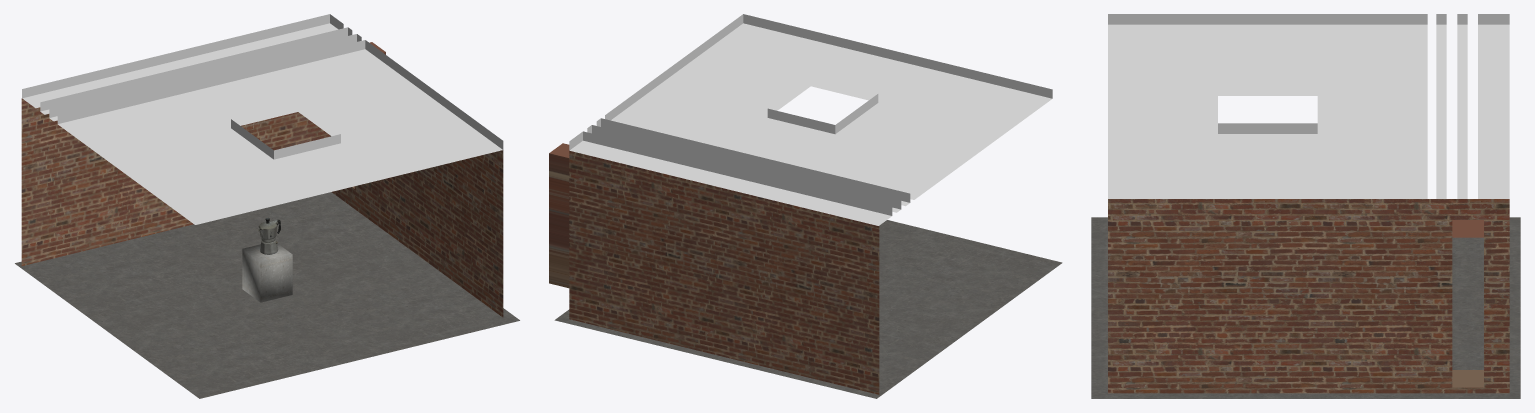
Rendered from aaaaa6.gltf.
3 renders of one model, left to right at view 1: azimuth 30°, elevation 25°; view 2: azimuth 150°, elevation 25°; view 3: azimuth 270°, elevation 25°, orthographic. The views are drawn at different scales.
Parts seen in each view (by area): view 1: Cube.001, floor, wall, Cube.002, firstTry; view 2: Cube.001, wall, floor; view 3: wall, Cube.001, floor.
Part boxes in pixels (bbox=[...]): Cube.001: bbox=[22, 14, 503, 224]; floor: bbox=[15, 192, 519, 398]; wall: bbox=[21, 42, 503, 317]; Cube.002: bbox=[242, 243, 292, 302]; firstTry: bbox=[258, 218, 280, 254]; Cube.001: bbox=[569, 14, 1052, 225]; wall: bbox=[549, 143, 879, 394]; floor: bbox=[554, 220, 1062, 398]; wall: bbox=[1108, 199, 1509, 393]; Cube.001: bbox=[1108, 14, 1509, 198]; floor: bbox=[1091, 217, 1520, 398].
Bounding box in the file's own units: 10.65 × 5.28 × 10.
4 materials, 4 textured.
